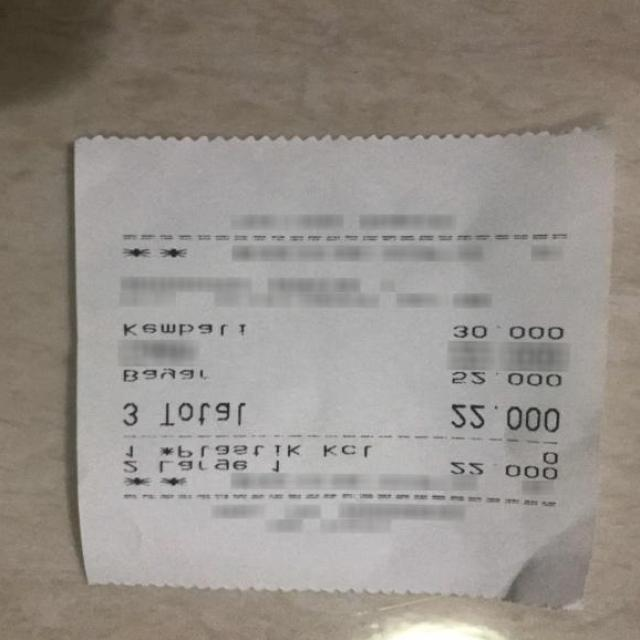kertas: (76, 131, 612, 607)
